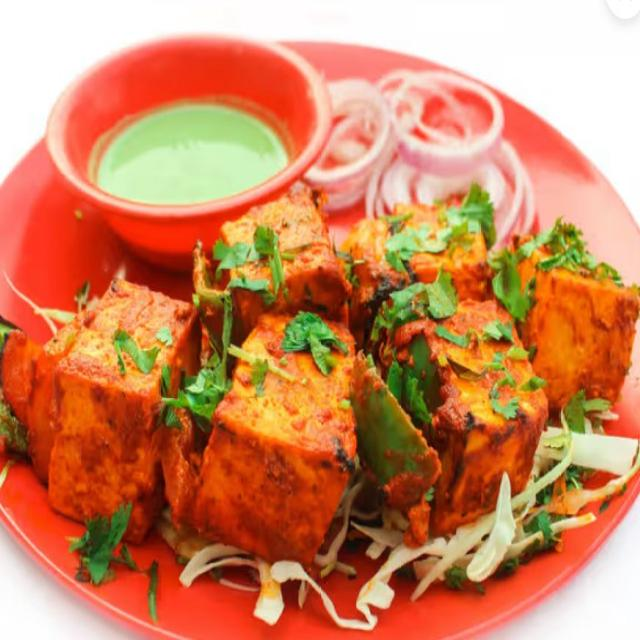GREEN CHUTNEY: (99, 104, 288, 206)
